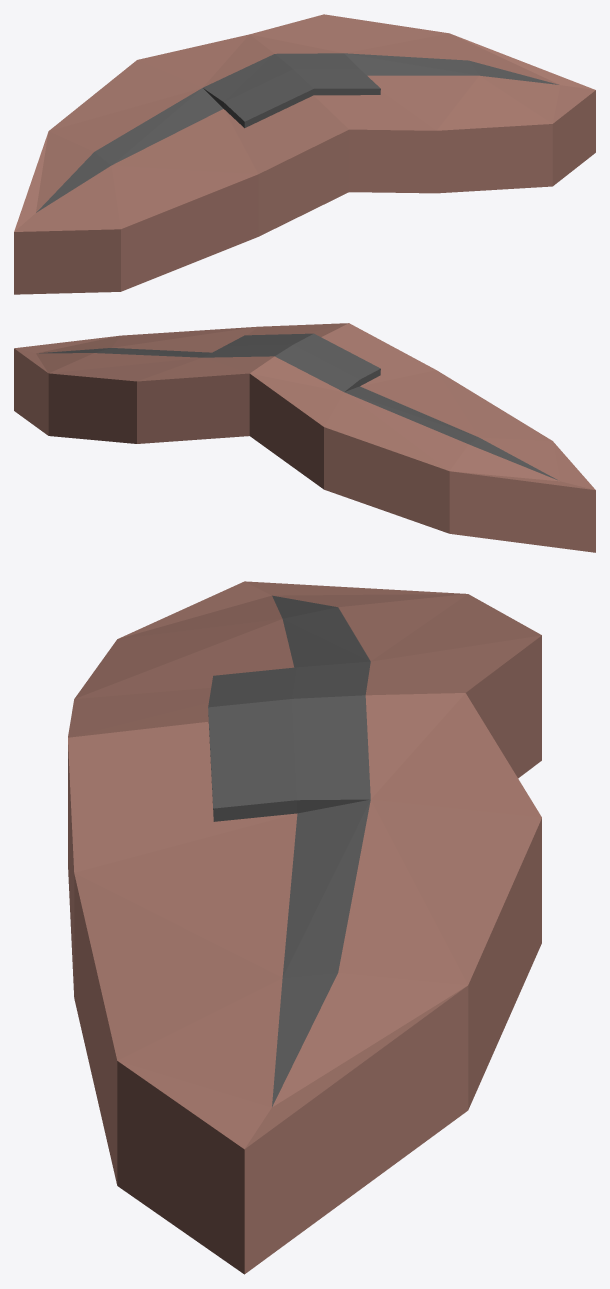
File: Mouth 07.FBX
3 renders of one model, top to bottom at view 1: azimuth 30°, elevation 25°; view 2: azimuth 150°, elevation 25°; view 3: azimuth 270°, elevation 25°, orthographic. The views are drawn at different scales.
Visible parts, largest first — view 1: Mouth 07; view 2: Mouth 07; view 3: Mouth 07.
Boxes of the visible parts, bbox=[...] form: Mouth 07: bbox=[14, 14, 595, 294]; Mouth 07: bbox=[14, 323, 595, 552]; Mouth 07: bbox=[68, 581, 541, 1274].
Size of the model in its own units: 8 by 2.82 by 1.95.
